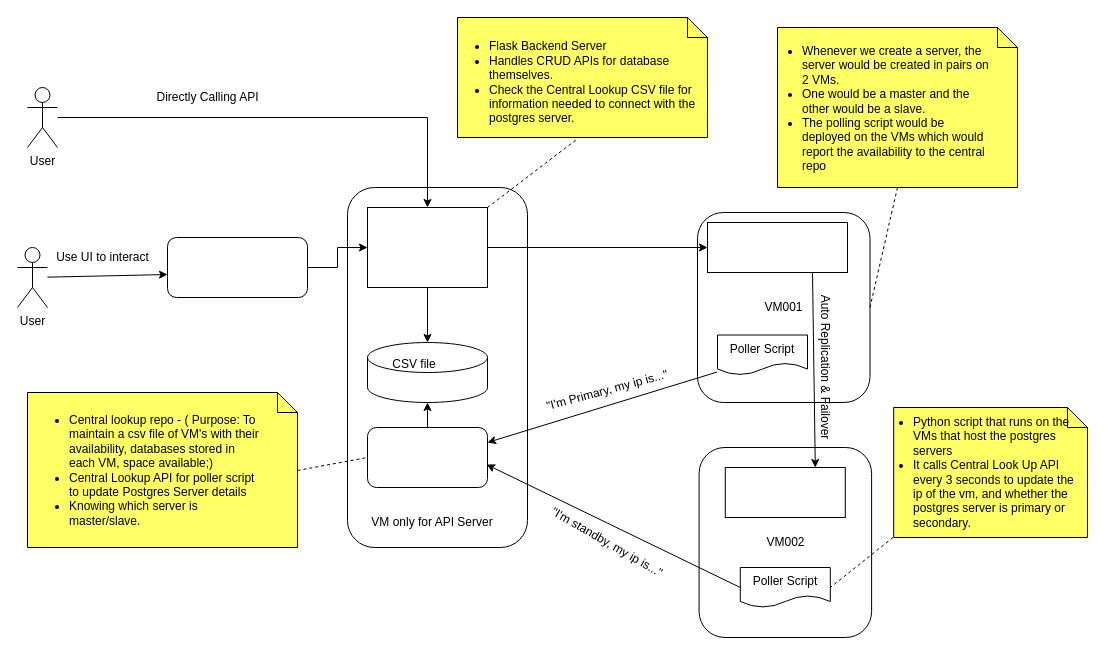
The diagram is 1105 pixels wide and 655 high, and some of its shapes have lost their labels. The box of each missing label's shape, as (x1, y1, x2, y2) in pixels:
Central Lookup Server (Handle Central Lookup API ): (366, 426, 488, 488)
Flask Backend Server (Handle Database Operations API): (366, 206, 488, 288)
Primary Postgres Instance .: (706, 222, 848, 272)
React.js Web Application (Hosted on a 3rd party cloud): (166, 236, 308, 298)
Standby Postgres Instance: (724, 466, 845, 518)
